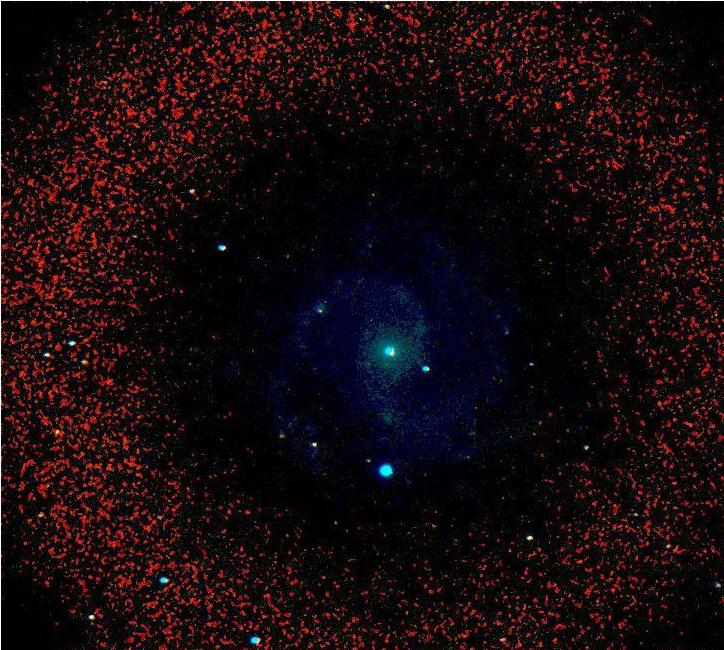star: (368, 350, 398, 380)
